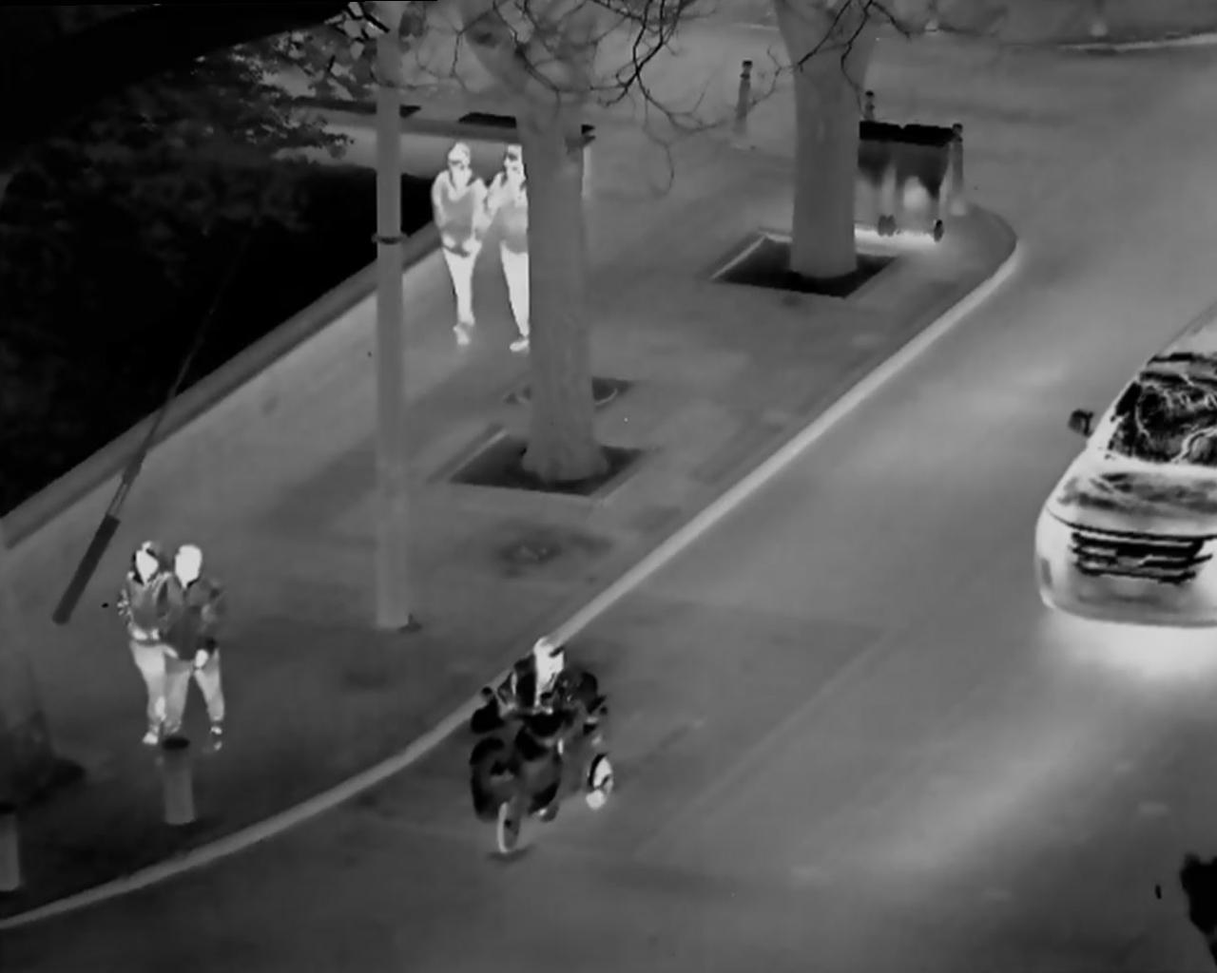person: (484, 628, 601, 818), (161, 527, 227, 753), (482, 129, 539, 345), (427, 128, 482, 348), (118, 538, 173, 742)
